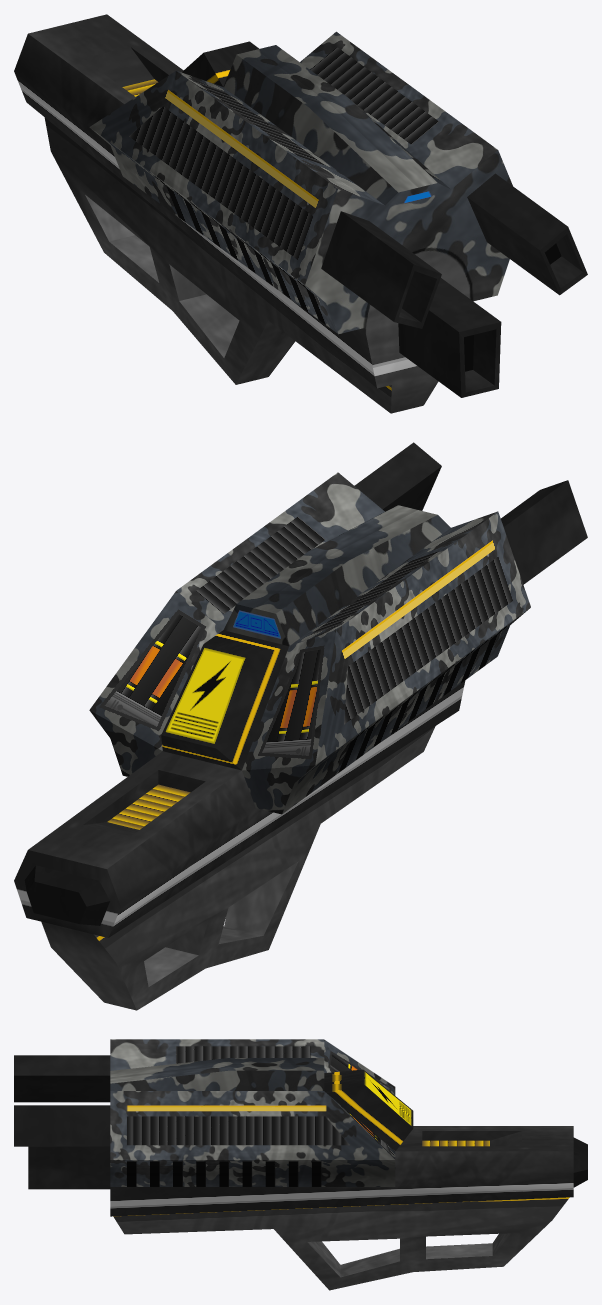
File: Machinegun.fbx
3 renders of one model, top to bottom at view 1: azimuth 30°, elevation 25°; view 2: azimuth 150°, elevation 25°; view 3: azimuth 270°, elevation 25°, orthographic. The views are drawn at different scales.
Parts seen in each view (by area): view 1: Machinegun, Machinegun_Barrel1, Machinegun_Barrel2, Machinegun_Barrel3; view 2: Machinegun, Machinegun_Barrel1, Machinegun_Barrel3, MachinegunAmmo; view 3: Machinegun, Machinegun_Barrel1, Machinegun_Barrel3, Machinegun_Barrel2, MachinegunAmmo.
Part boxes in pixels (x1=…): Machinegun: x1=14, y1=14, x2=512, y2=413; Machinegun_Barrel1: x1=321, y1=211, x2=441, y2=328; Machinegun_Barrel2: x1=398, y1=278, x2=501, y2=397; Machinegun_Barrel3: x1=467, y1=173, x2=587, y2=295; Machinegun: x1=14, y1=472, x2=530, y2=1010; Machinegun_Barrel1: x1=501, y1=480, x2=587, y2=584; Machinegun_Barrel3: x1=354, y1=442, x2=441, y2=511; MachinegunAmmo: x1=107, y1=784, x2=190, y2=829; Machinegun: x1=110, y1=1039, x2=587, y2=1290; Machinegun_Barrel1: x1=14, y1=1055, x2=110, y2=1102; Machinegun_Barrel3: x1=14, y1=1105, x2=110, y2=1146; Machinegun_Barrel2: x1=28, y1=1146, x2=110, y2=1189; MachinegunAmmo: x1=422, y1=1140, x2=489, y2=1146.
Bounding box in the file's own units: 484 × 683 × 1610.
